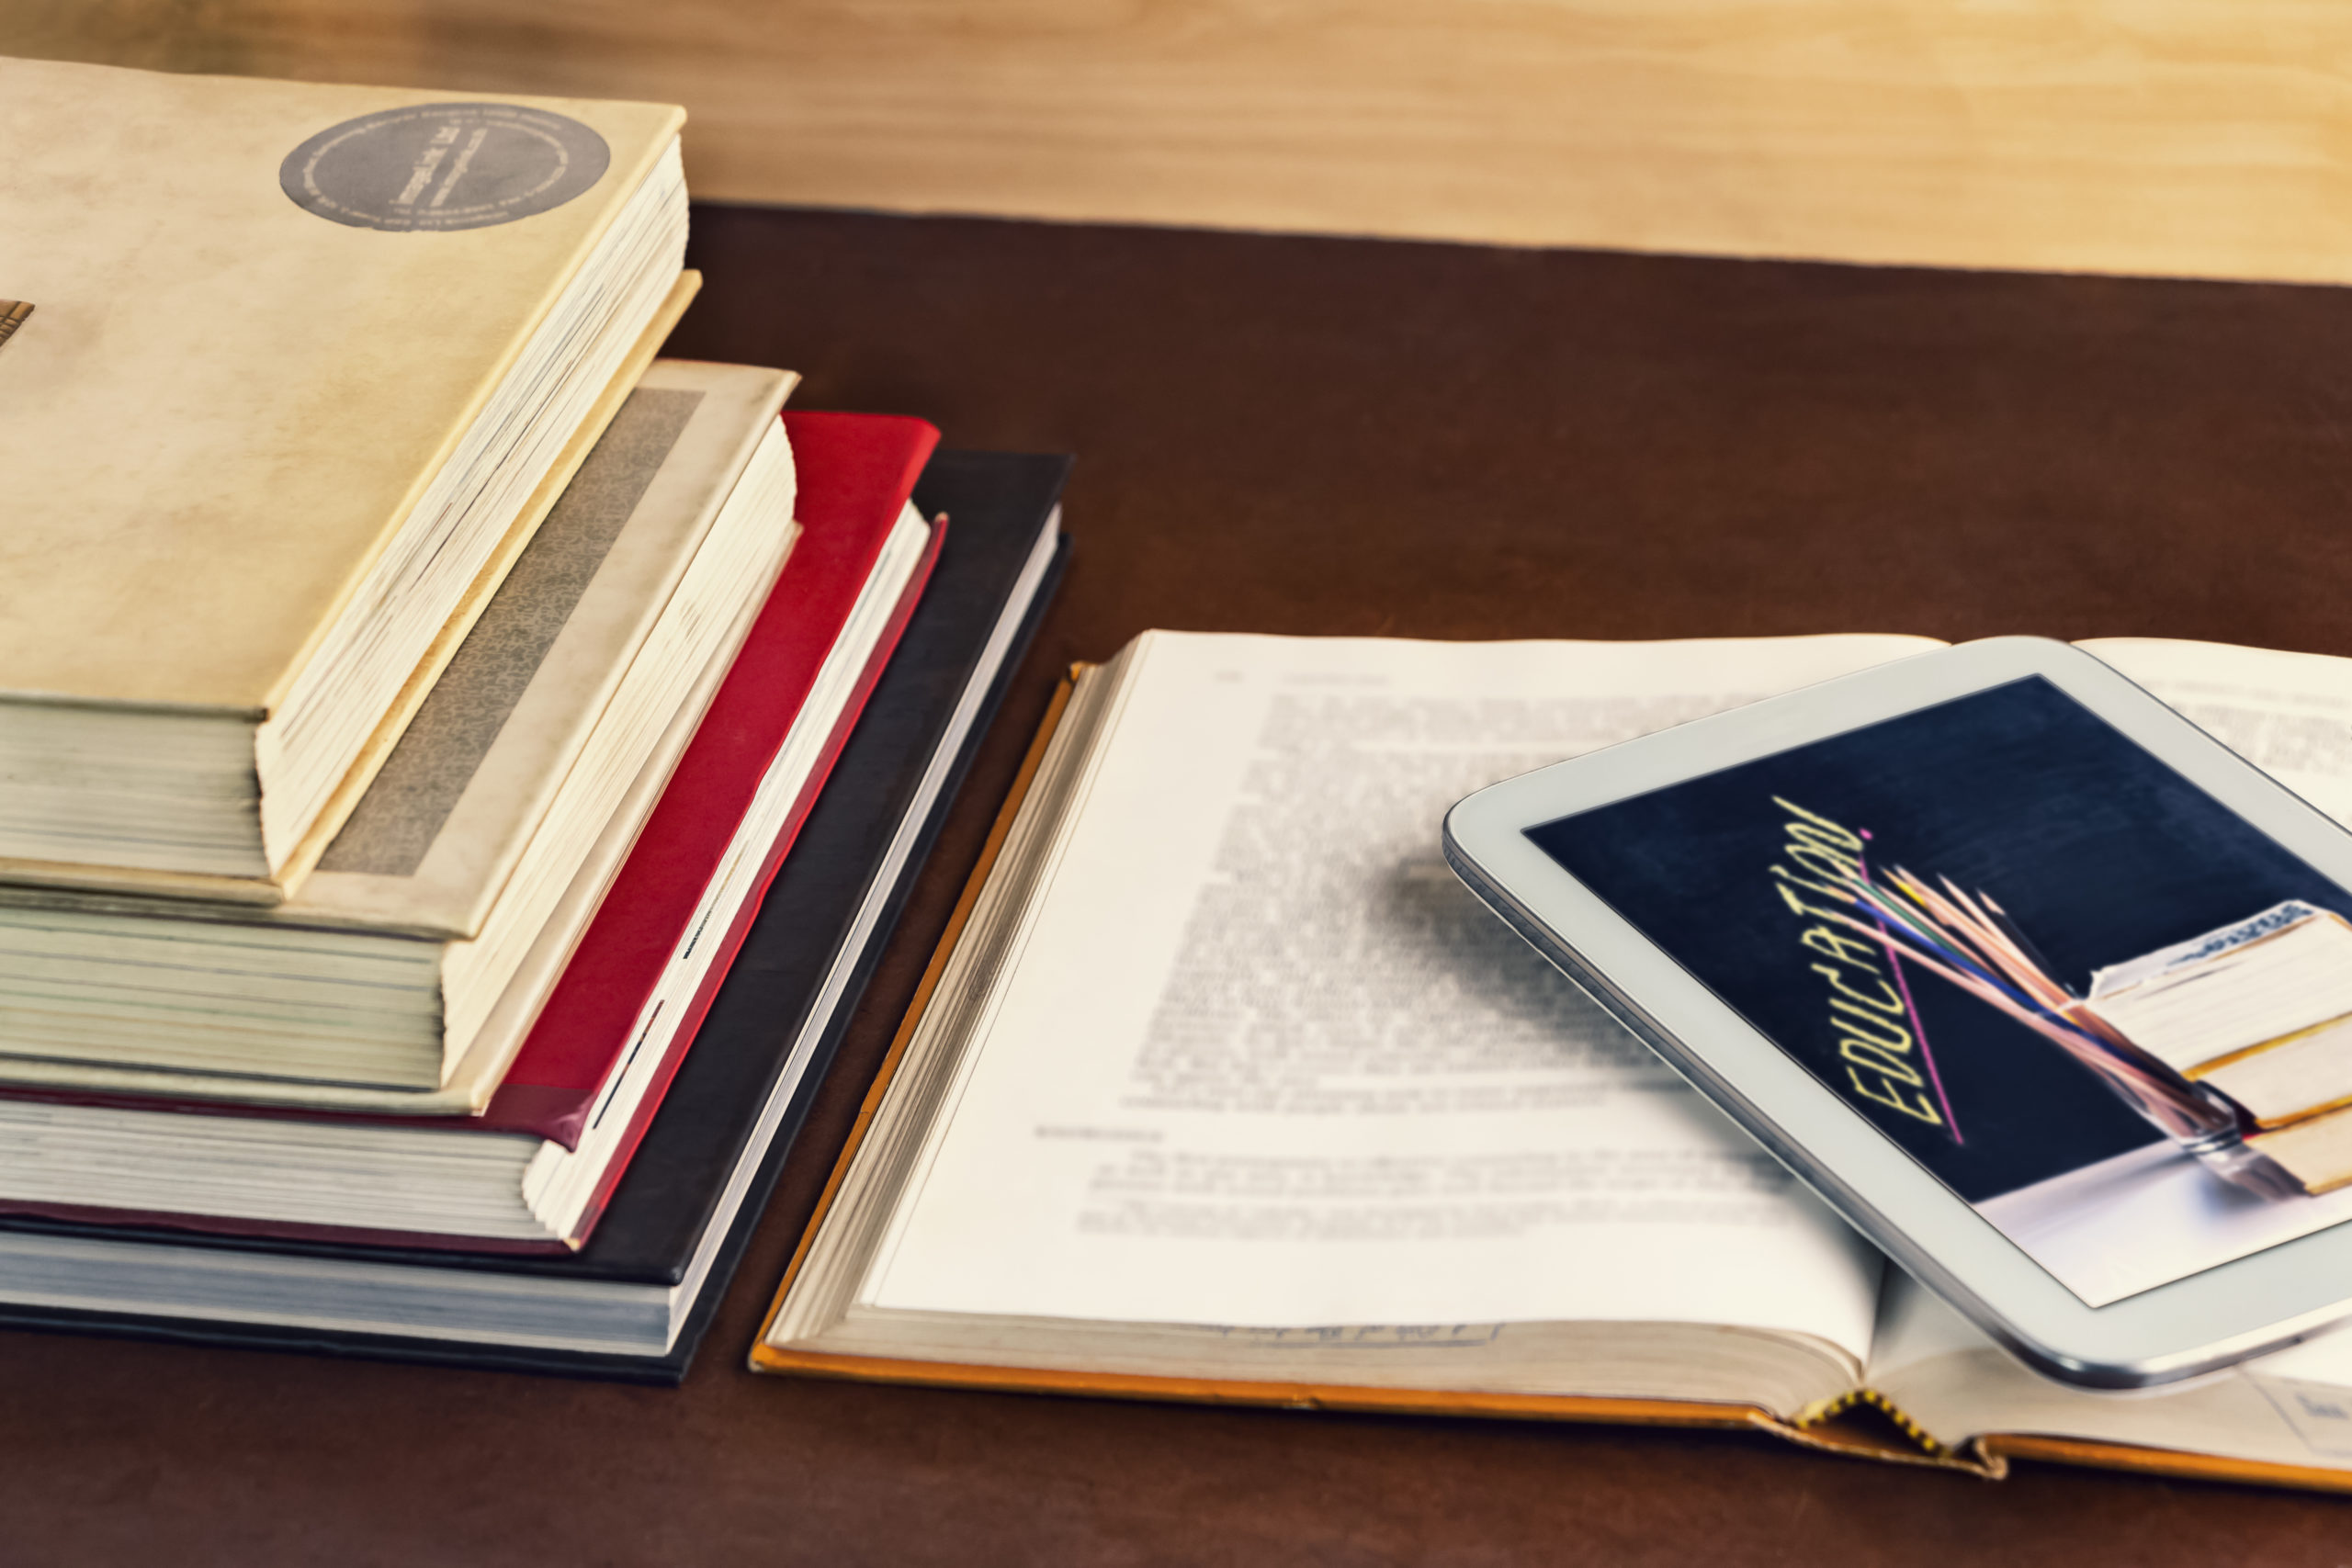Open Book: (1032, 625, 2352, 1487)
